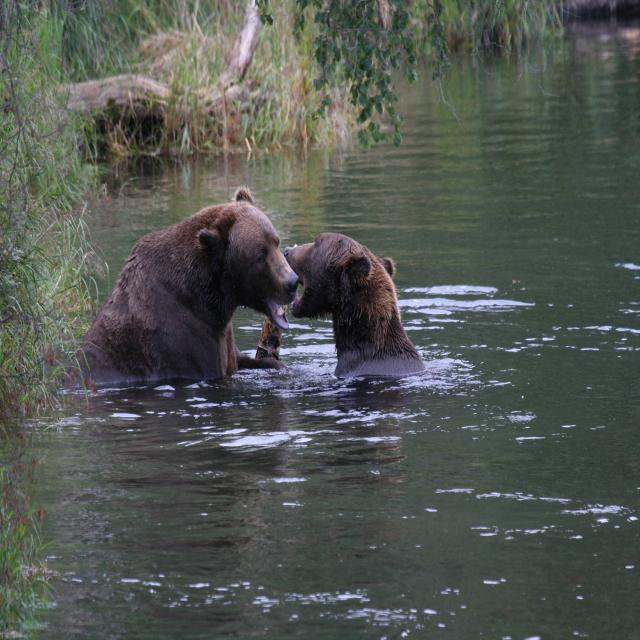bear face: (91, 185, 298, 382), (286, 233, 417, 370)
